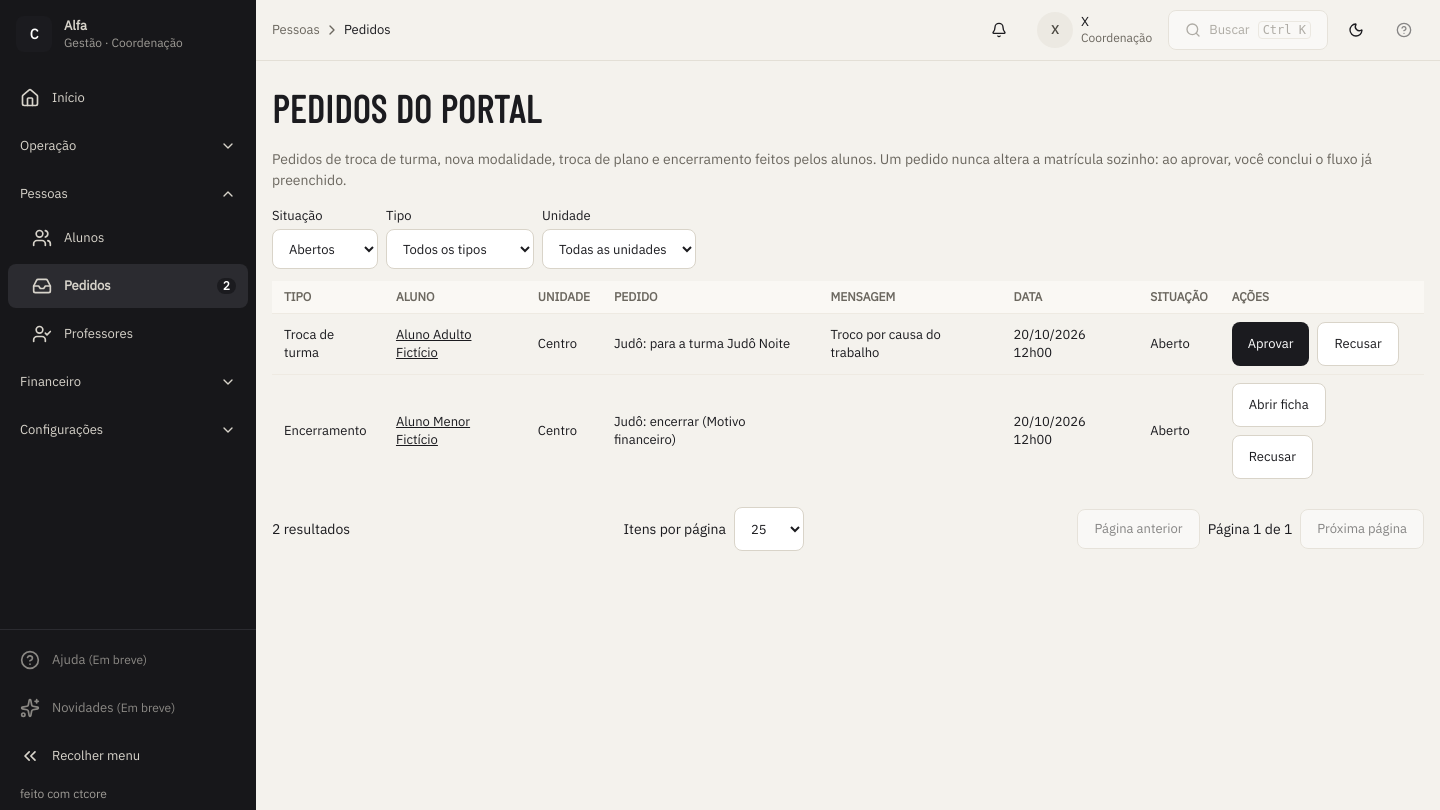
PortalRequestsPage (RF-MAT-04) › CA19: Recusar abre a janela, exige mensagem de 3 caracteres e some o pedido da lista aberta
This screenshot has width=1440, height=810.
Click the button with aria-label "Recusar pedido de Aluno Adulto Fictício": (1358, 344) [1318,322,1399,366]
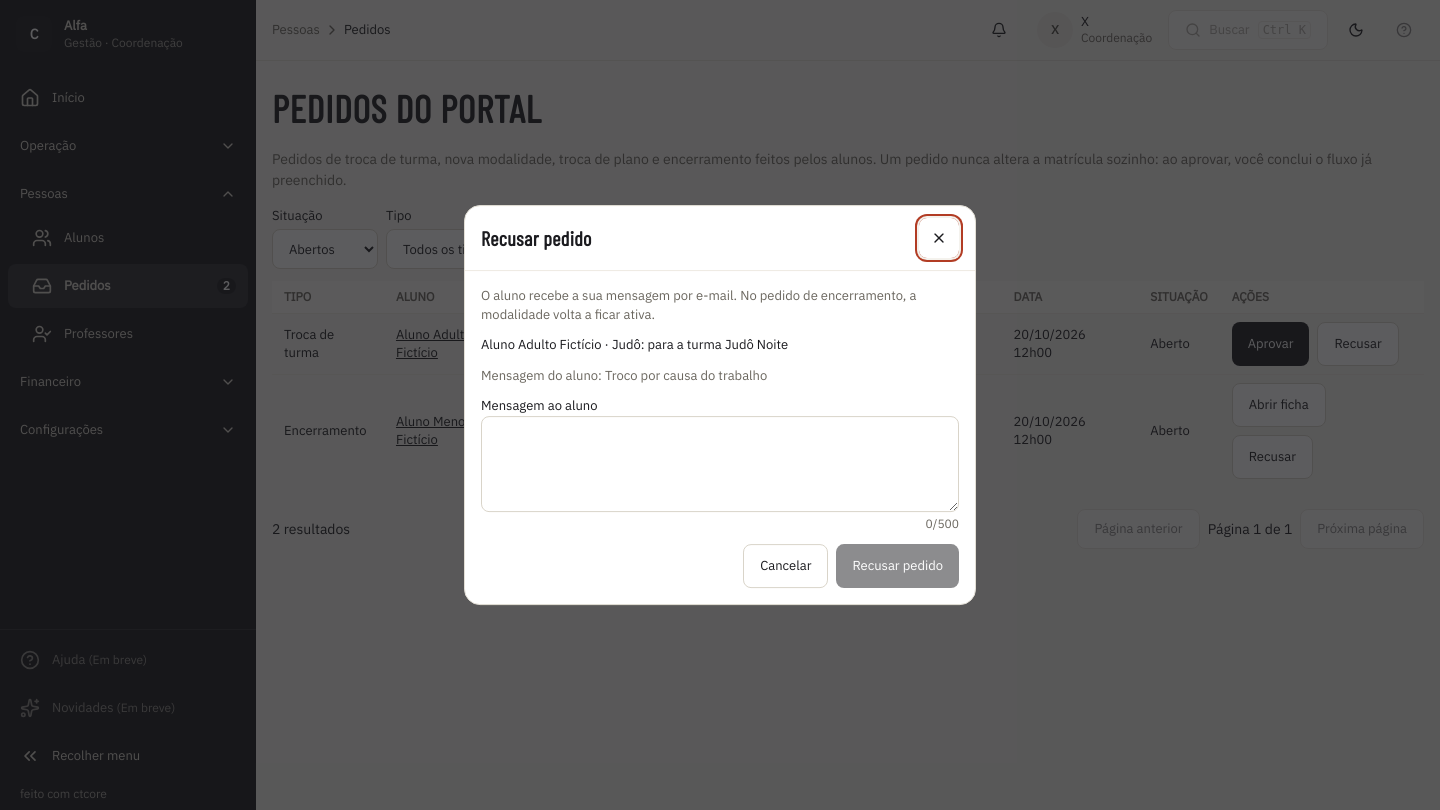
expect the button "Recusar pedido" is disabled: met, box [836,544,959,588]
In the text box labelled "Mensagem ao aluno": (720, 464) [481,416,959,512], type "ab"
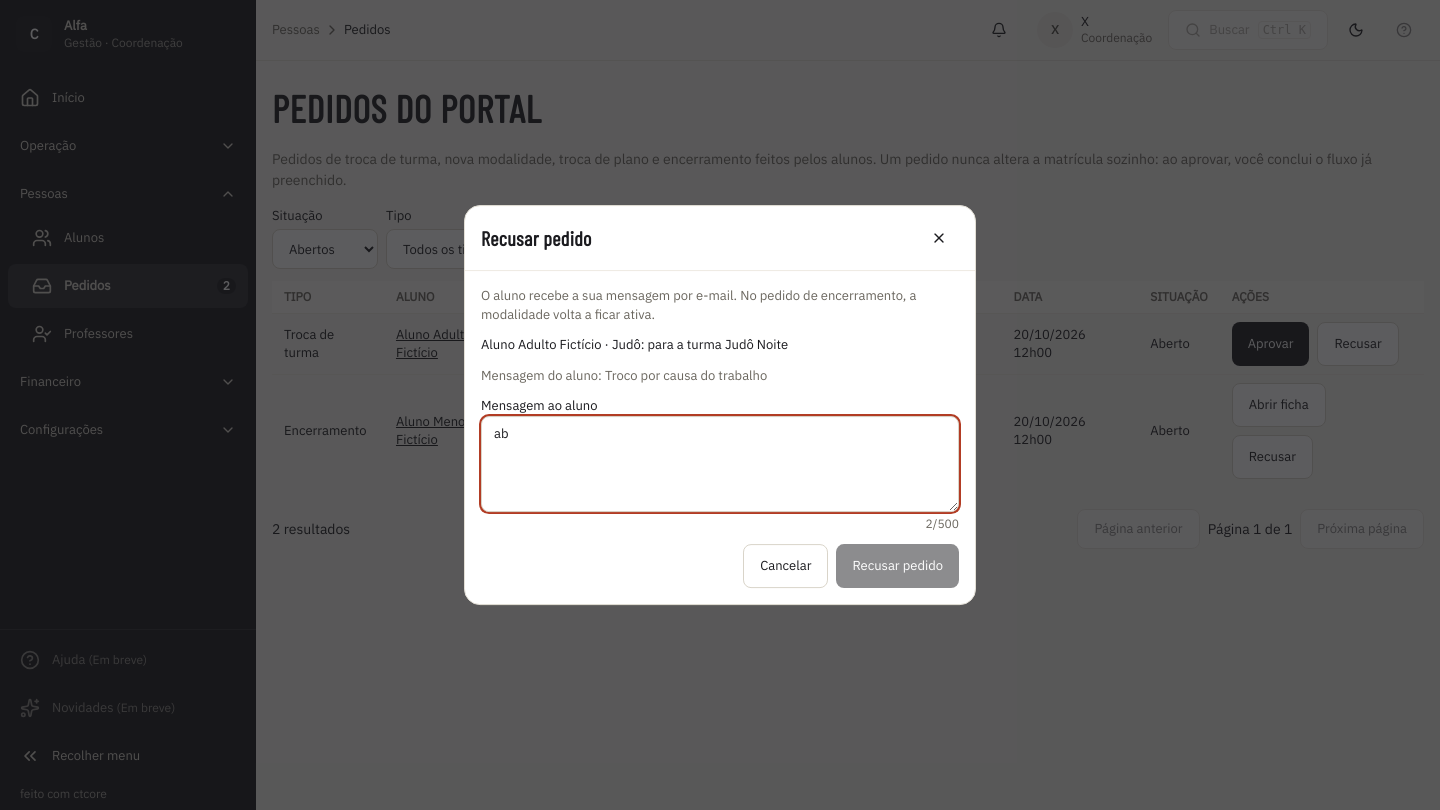
expect the button "Recusar pedido" is disabled: met, box [836,544,959,588]
In the text box labelled "Mensagem ao aluno": (720, 464) [481,416,959,512], type "c"
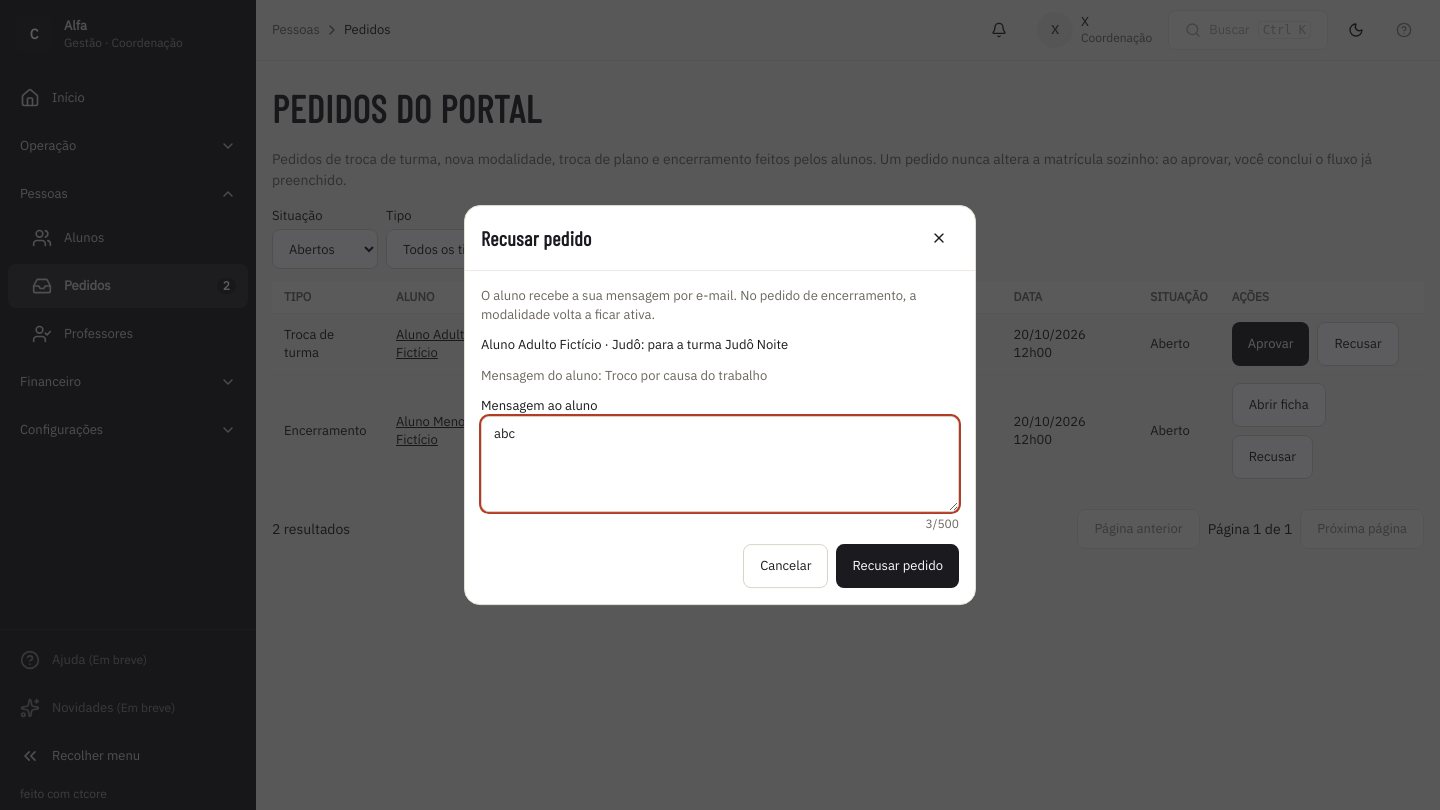
Click the button "Recusar pedido": (898, 566) [836,544,959,588]
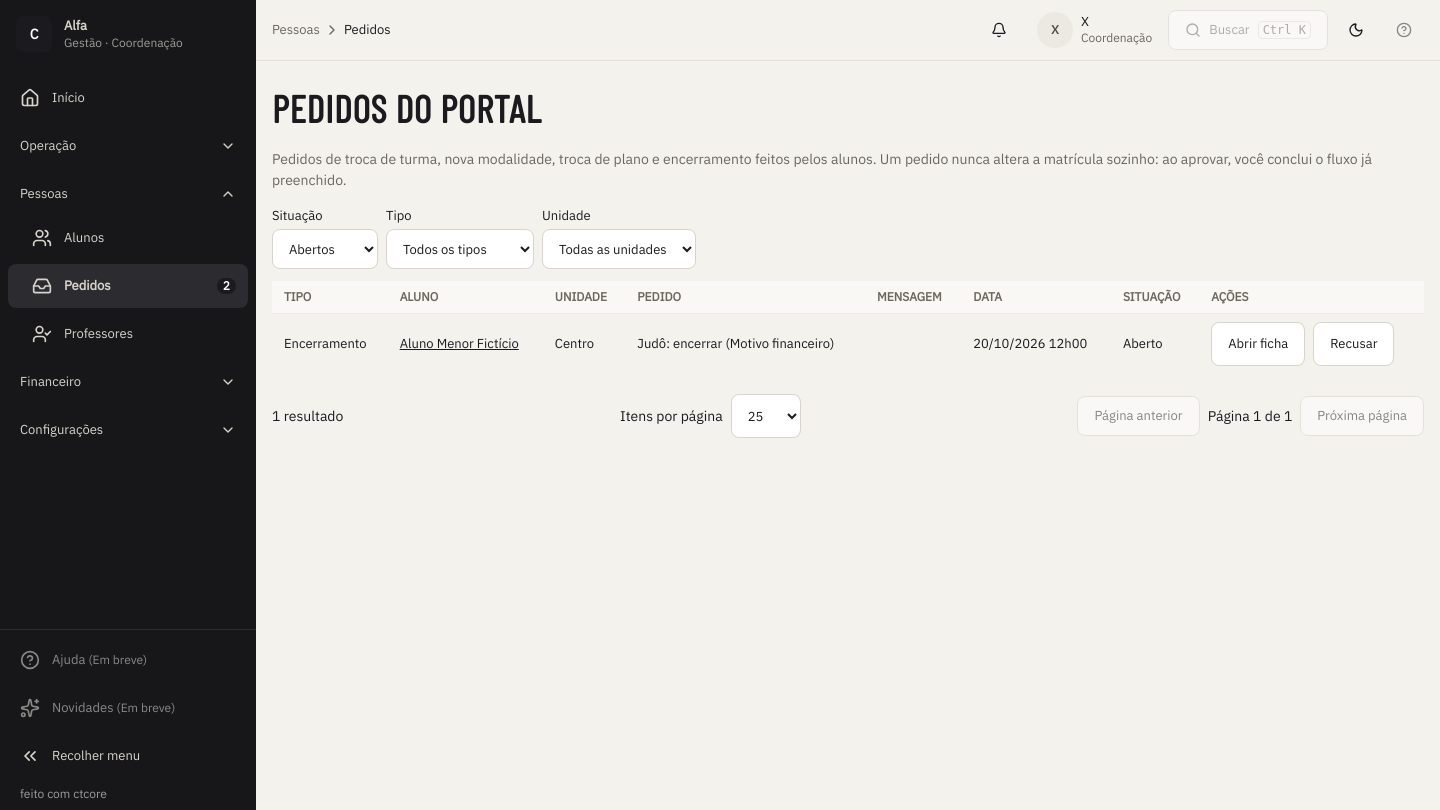
expect the dialog is gone: met
expect the text "Troco por causa do trabalho" is gone: met
